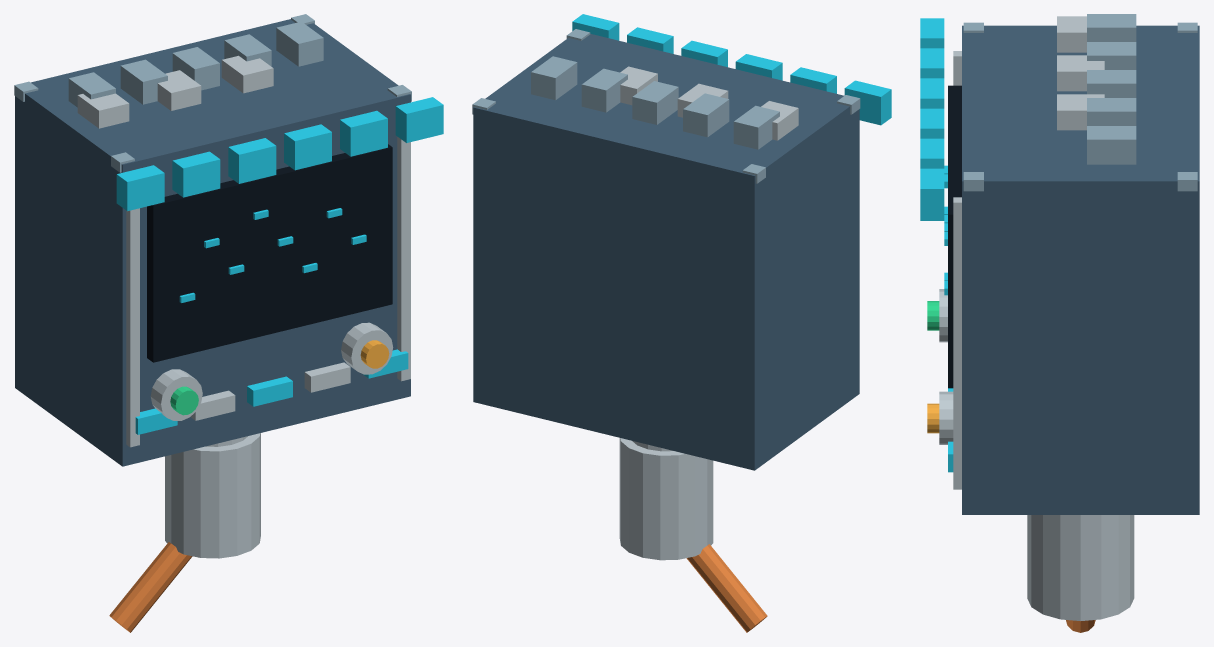
File: 46_L76_TrenchFillTomographyMonitor.fbx
3 views of the same model, side by side, from view 1: azimuth 30°, elevation 25°; view 2: azimuth 150°, elevation 25°; view 3: azimuth 270°, elevation 25° (orthographic). The views are drawn at different scales.
Parts seen in each view (by area): view 1: TrenchFillTomographyMonitor, TrenchFillTomographyMonitor_Part_0042, TrenchFillTomographyMonitor_Part_0036, TrenchFillTomographyMonitor_Part_0037, TrenchFillTomographyMonitor_Part_0038, TrenchFillTomographyMonitor_Part_0041, TrenchFillTomographyMonitor_Part_0040, TrenchFillTomographyMonitor_Part_0039; view 2: TrenchFillTomographyMonitor, TrenchFillTomographyMonitor_Part_0042, TrenchFillTomographyMonitor_Part_0036, TrenchFillTomographyMonitor_Part_0038, TrenchFillTomographyMonitor_Part_0040, TrenchFillTomographyMonitor_Part_0037, TrenchFillTomographyMonitor_Part_0039, TrenchFillTomographyMonitor_Part_0041; view 3: TrenchFillTomographyMonitor, TrenchFillTomographyMonitor_Part_0042, TrenchFillTomographyMonitor_Part_0041, TrenchFillTomographyMonitor_Part_0038, TrenchFillTomographyMonitor_Part_0036, TrenchFillTomographyMonitor_Part_0037, TrenchFillTomographyMonitor_Part_0039, TrenchFillTomographyMonitor_Part_0040.
Part boxes in pixels (<box>): TrenchFillTomographyMonitor: <box>14,14,411,632</box>; TrenchFillTomographyMonitor_Part_0042: <box>165,433,260,558</box>; TrenchFillTomographyMonitor_Part_0036: <box>116,165,164,211</box>; TrenchFillTomographyMonitor_Part_0037: <box>172,151,220,197</box>; TrenchFillTomographyMonitor_Part_0038: <box>228,138,276,183</box>; TrenchFillTomographyMonitor_Part_0041: <box>395,97,443,142</box>; TrenchFillTomographyMonitor_Part_0040: <box>340,110,387,156</box>; TrenchFillTomographyMonitor_Part_0039: <box>284,124,331,170</box>; TrenchFillTomographyMonitor: <box>472,29,860,632</box>; TrenchFillTomographyMonitor_Part_0042: <box>619,438,713,560</box>; TrenchFillTomographyMonitor_Part_0036: <box>844,80,891,125</box>; TrenchFillTomographyMonitor_Part_0038: <box>735,54,782,80</box>; TrenchFillTomographyMonitor_Part_0040: <box>627,27,673,53</box>; TrenchFillTomographyMonitor_Part_0037: <box>790,67,836,93</box>; TrenchFillTomographyMonitor_Part_0039: <box>681,40,727,67</box>; TrenchFillTomographyMonitor_Part_0041: <box>572,14,619,40</box>; TrenchFillTomographyMonitor: <box>927,14,1199,632</box>; TrenchFillTomographyMonitor_Part_0042: <box>1027,515,1134,620</box>; TrenchFillTomographyMonitor_Part_0041: <box>920,168,944,220</box>; TrenchFillTomographyMonitor_Part_0038: <box>920,78,944,108</box>; TrenchFillTomographyMonitor_Part_0036: <box>920,18,944,48</box>; TrenchFillTomographyMonitor_Part_0037: <box>920,48,944,78</box>; TrenchFillTomographyMonitor_Part_0039: <box>920,108,944,138</box>; TrenchFillTomographyMonitor_Part_0040: <box>920,138,944,168</box>.
Size of the model in its own units: 68 by 112 by 47.
